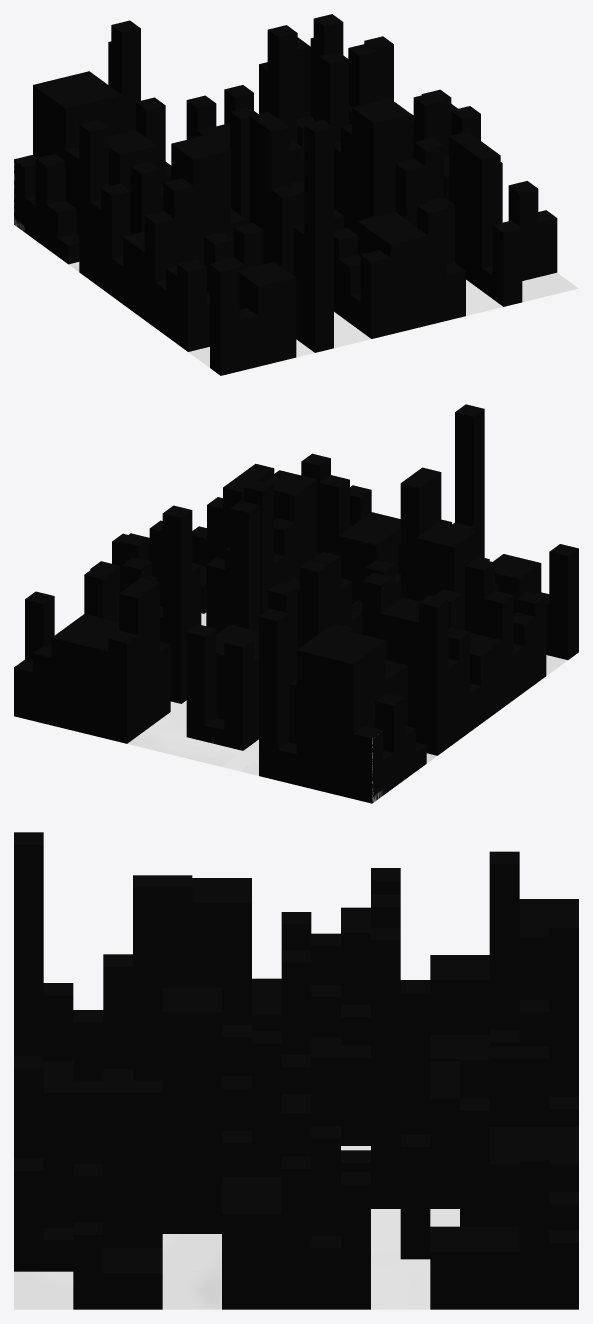
The model's file is city2d.obj.
3 views of the same model, one above another, from view 1: azimuth 30°, elevation 25°; view 2: azimuth 150°, elevation 25°; view 3: azimuth 270°, elevation 25° (orthographic). The views are drawn at different scales.
Visible parts, largest first — view 1: Grid_Grid.001; view 2: Grid_Grid.001; view 3: Grid_Grid.001.
Part boxes in pixels (x1,y1,x2,y2): Grid_Grid.001: [14, 14, 578, 375]; Grid_Grid.001: [14, 404, 578, 803]; Grid_Grid.001: [14, 832, 578, 1309].
Bounding box in the file's own units: 180 × 106 × 180.
Materials: 1 (1 with a texture image).
